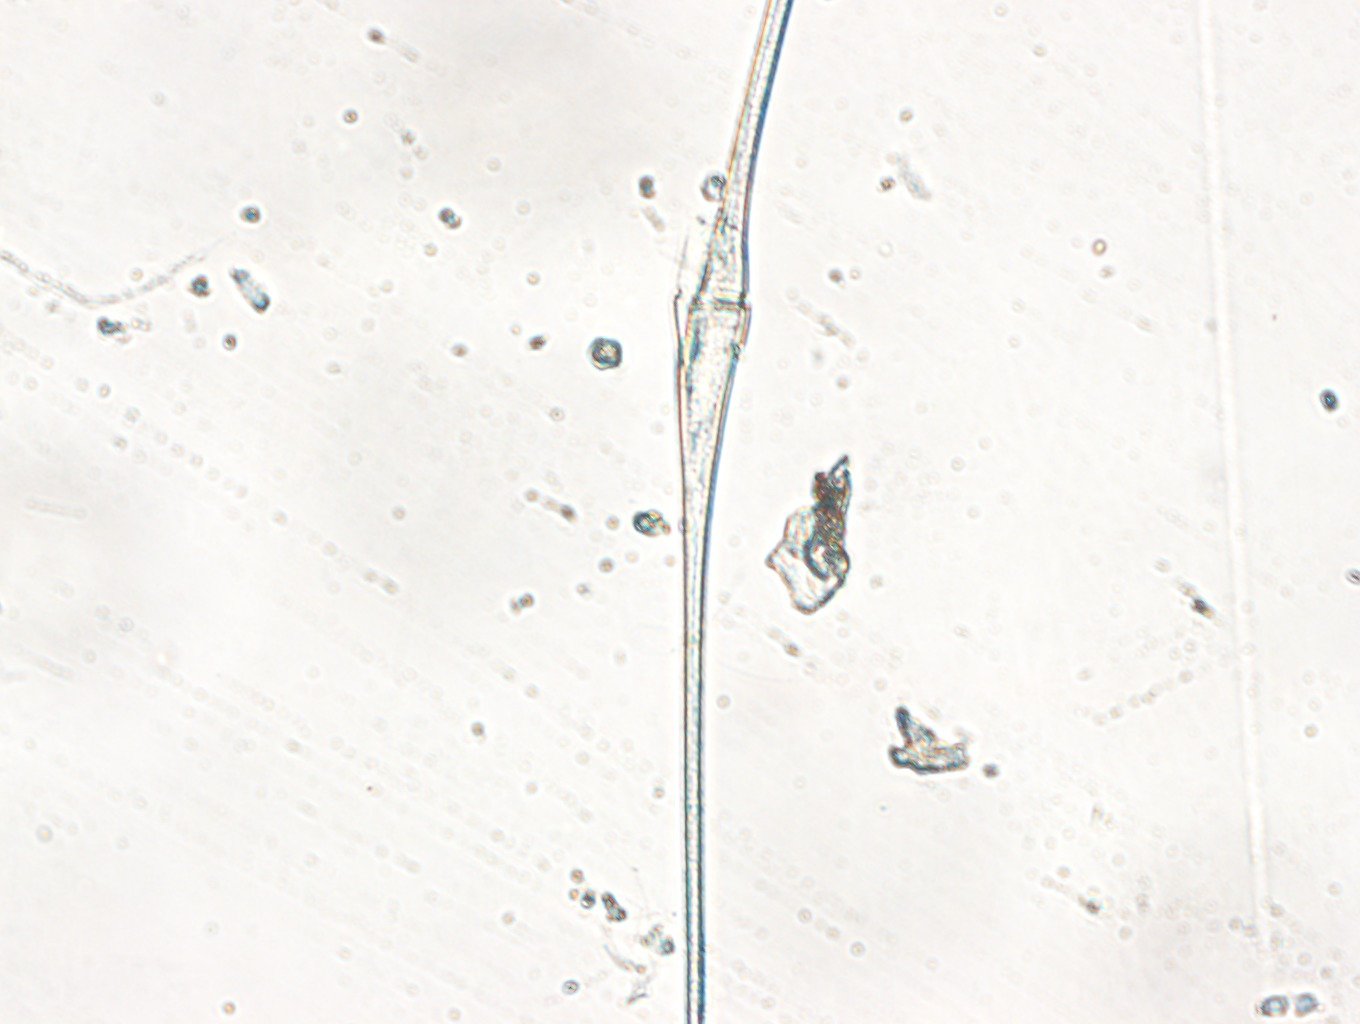ceratium fusus: (672, 1, 794, 1024)
